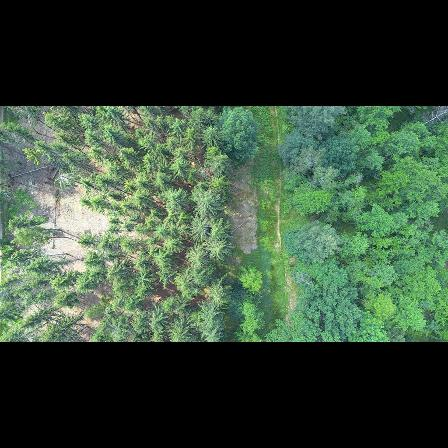Dead: (421, 106, 448, 130)
